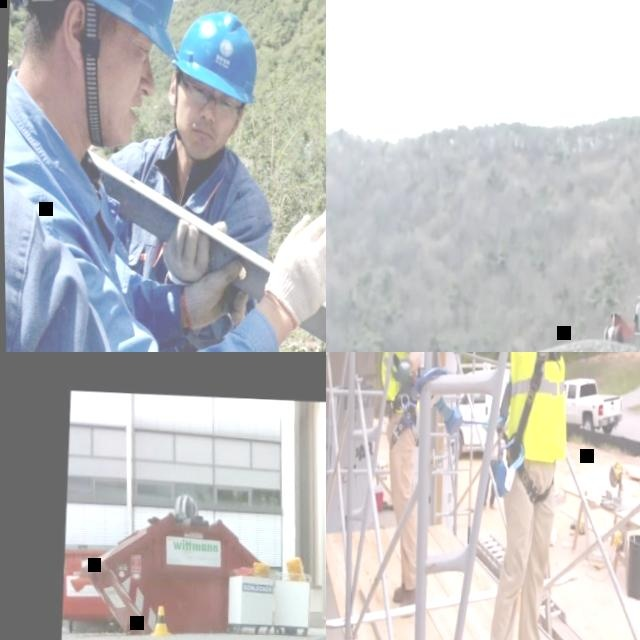Hardhat: (5, 0, 185, 60), (167, 7, 259, 106)
NO-Mask: (85, 61, 150, 153), (175, 114, 228, 162)
NO-Safety Vest: (1, 97, 141, 352), (108, 137, 265, 352), (2, 153, 52, 352)
Person: (0, 0, 326, 352), (74, 3, 287, 352), (2, 153, 223, 352), (472, 352, 584, 640), (367, 352, 437, 620)
Safety Cone: (149, 606, 172, 638)
Safety Vest: (502, 352, 574, 465), (377, 352, 423, 413)
vehicle: (452, 365, 512, 459), (561, 377, 623, 436)
